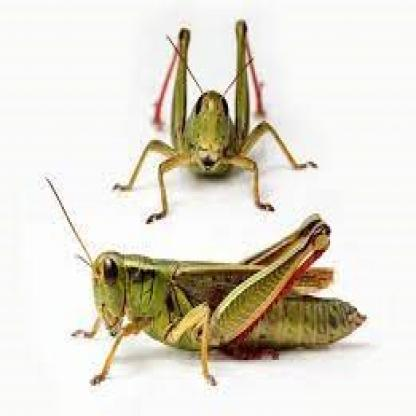grasshopper: (43, 175, 367, 390), (113, 16, 320, 218)
